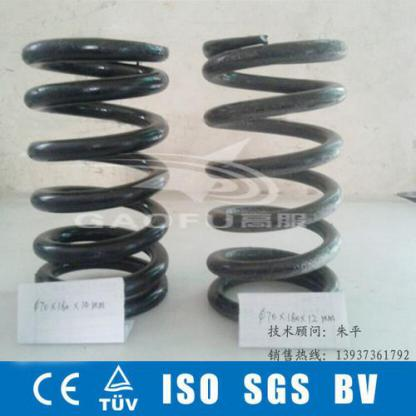FOD: (19, 34, 174, 323), (196, 30, 348, 324)
